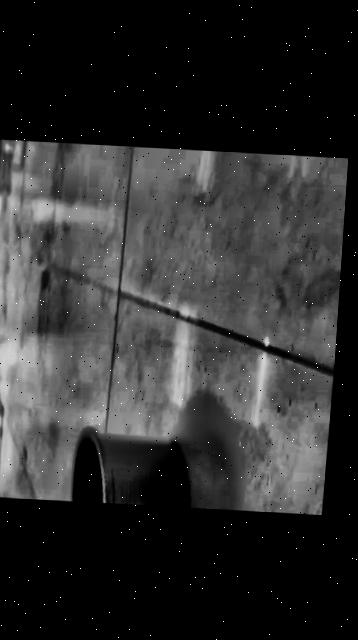pot: (69, 427, 195, 508)
